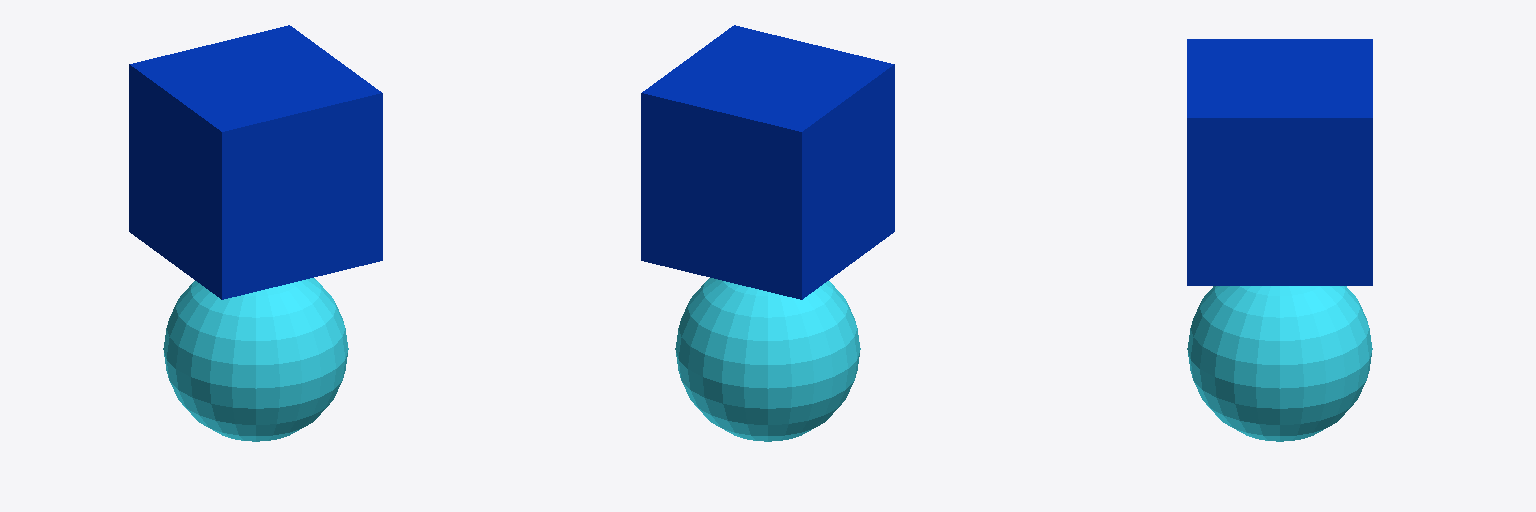
The picture shows the model from 3 angles: view 1: azimuth 30°, elevation 25°; view 2: azimuth 150°, elevation 25°; view 3: azimuth 270°, elevation 25°; orthographic projection.
Parts seen in each view (by area): view 1: 冰块, 圆椒; view 2: 冰块, 圆椒; view 3: 冰块, 圆椒.
Boxes of the visible parts, box(x1,y1,x2,y2) form: 冰块: box(129, 25, 382, 299); 圆椒: box(163, 278, 348, 441); 冰块: box(641, 25, 894, 299); 圆椒: box(675, 278, 860, 441); 冰块: box(1187, 39, 1372, 285); 圆椒: box(1187, 286, 1372, 441).
Bounding box in the file's own units: 200 × 423 × 200.